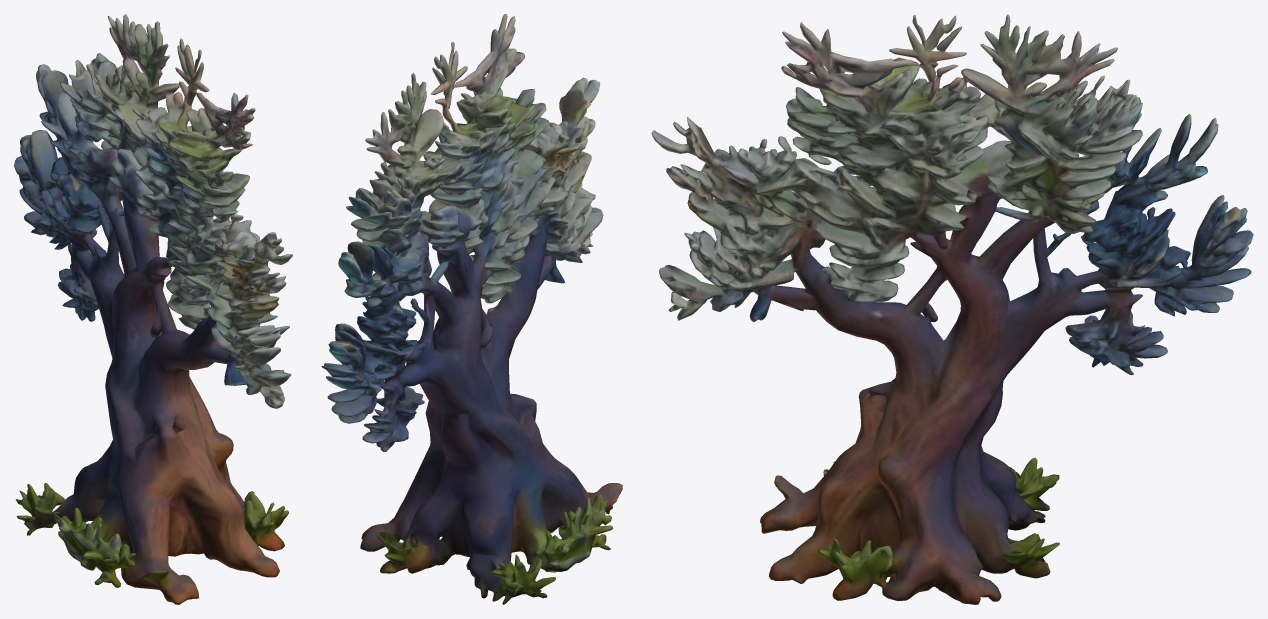
File: tree_olive.glb
The picture shows the model from 3 angles, left to right: view 1: azimuth 30°, elevation 25°; view 2: azimuth 150°, elevation 25°; view 3: azimuth 270°, elevation 25°; orthographic projection. The views are drawn at different scales.
Parts seen in each view (by area): view 1: tripo_node_d37db21c-c0dc-4b0a-b1c5-f75280ee3dcd; view 2: tripo_node_d37db21c-c0dc-4b0a-b1c5-f75280ee3dcd; view 3: tripo_node_d37db21c-c0dc-4b0a-b1c5-f75280ee3dcd.
Boxes of the visible parts, box(x1,y1,x2,y2) form: tripo_node_d37db21c-c0dc-4b0a-b1c5-f75280ee3dcd: box(14, 14, 292, 604); tripo_node_d37db21c-c0dc-4b0a-b1c5-f75280ee3dcd: box(321, 14, 622, 604); tripo_node_d37db21c-c0dc-4b0a-b1c5-f75280ee3dcd: box(651, 14, 1253, 604).
Bounding box in the file's own units: 0.4134 × 0.9463 × 0.9205.
Materials: 1 (1 with a texture image).
